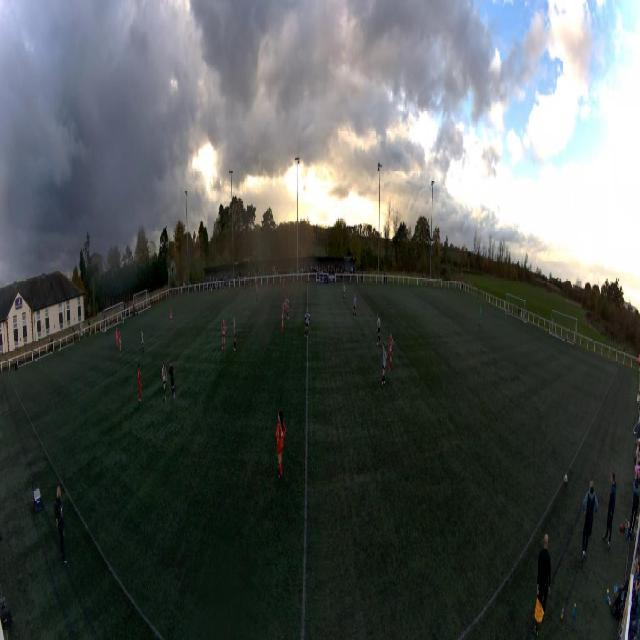player: (275, 410, 287, 481), (168, 360, 176, 399), (381, 342, 387, 386), (161, 360, 167, 399), (137, 362, 142, 404), (221, 319, 227, 351), (389, 332, 394, 370), (304, 308, 310, 338), (376, 313, 381, 345), (281, 304, 285, 335), (353, 293, 357, 319), (233, 317, 236, 351), (286, 295, 290, 320), (119, 330, 122, 359), (169, 308, 173, 329), (342, 282, 346, 302), (284, 293, 287, 318), (141, 329, 144, 354), (116, 328, 119, 350), (479, 305, 482, 326), (256, 286, 259, 304), (283, 279, 285, 289), (255, 281, 257, 289)
